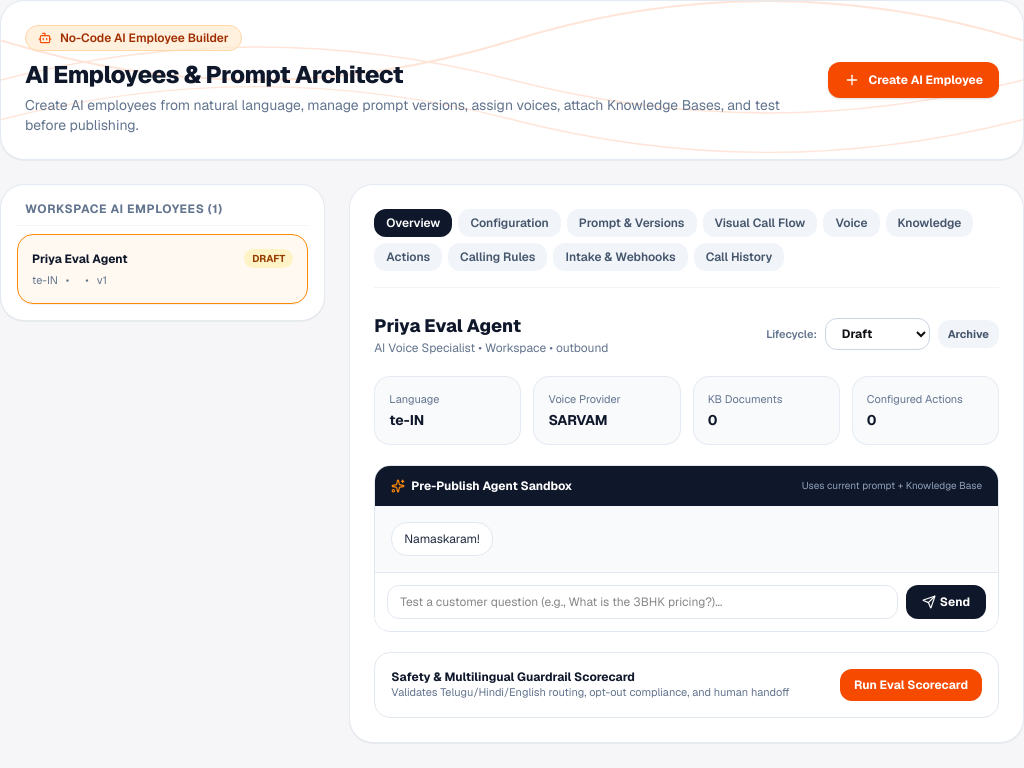
Test: Trivaana AI Portals & New Domain Modules › runs Eval Scorecard from AgentStudioPanel and displays readiness status
The width and height of the screenshot is (1024, 768).
Click the button "Run Eval Scorecard" at (911,684), box x1=840 y1=668 x2=982 y2=700
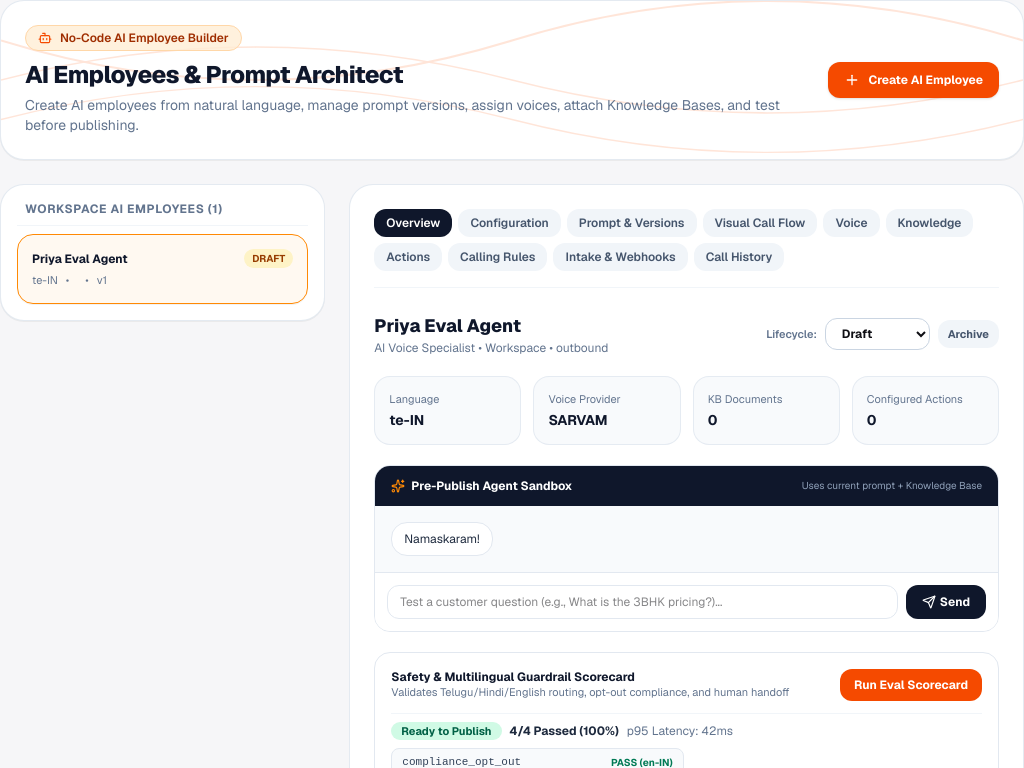
expect the text "Ready to Publish" is shown: met, box x1=391 y1=722 x2=502 y2=740
expect the text "4/4 Passed (100%)" is shown: met, box x1=510 y1=723 x2=619 y2=739
